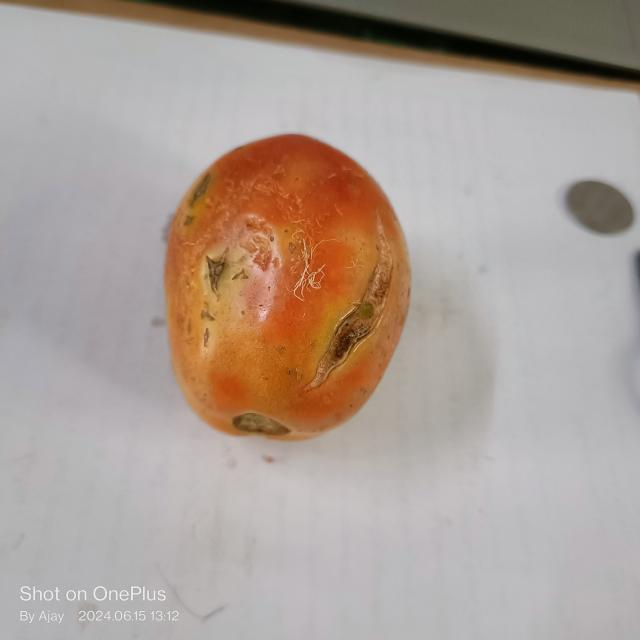Bacterial_Spot: (327, 254, 389, 387), (200, 248, 236, 289), (195, 313, 220, 352)
